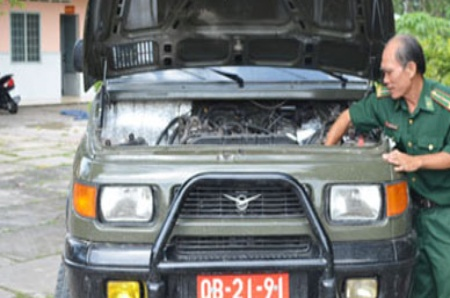plate: (193, 272, 292, 298)
